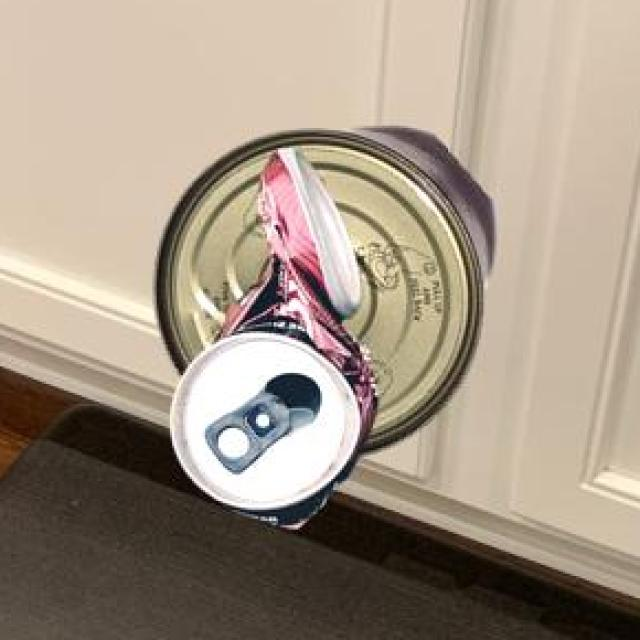logam: (151, 122, 493, 454), (167, 145, 374, 524)
